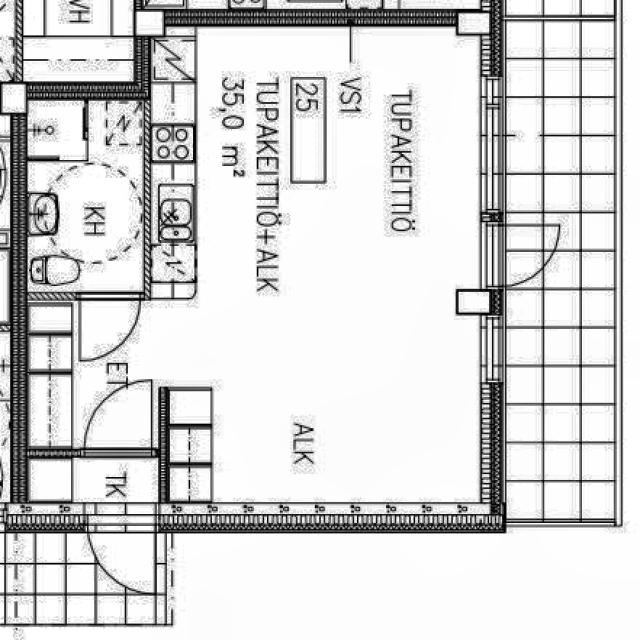Doors-dC8s: (475, 222, 504, 292), (82, 446, 159, 460), (94, 518, 157, 532), (80, 297, 138, 308), (152, 38, 159, 92)
Window: (483, 84, 504, 200), (479, 320, 505, 384)
